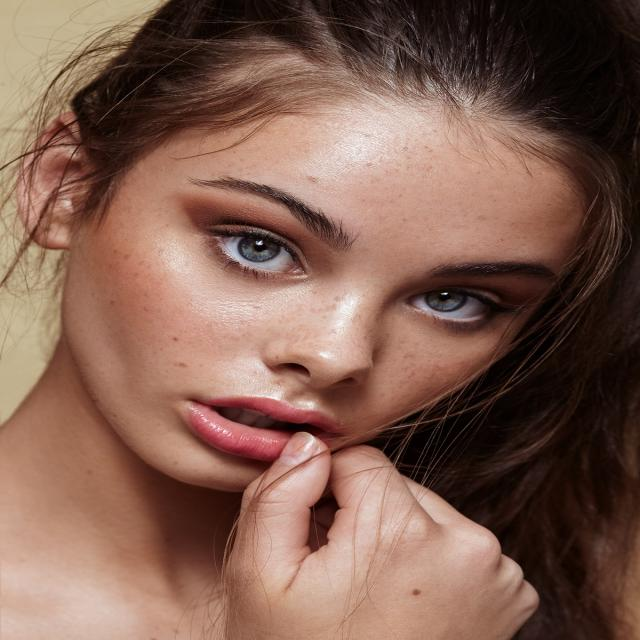earlobe: (19, 112, 91, 250)
